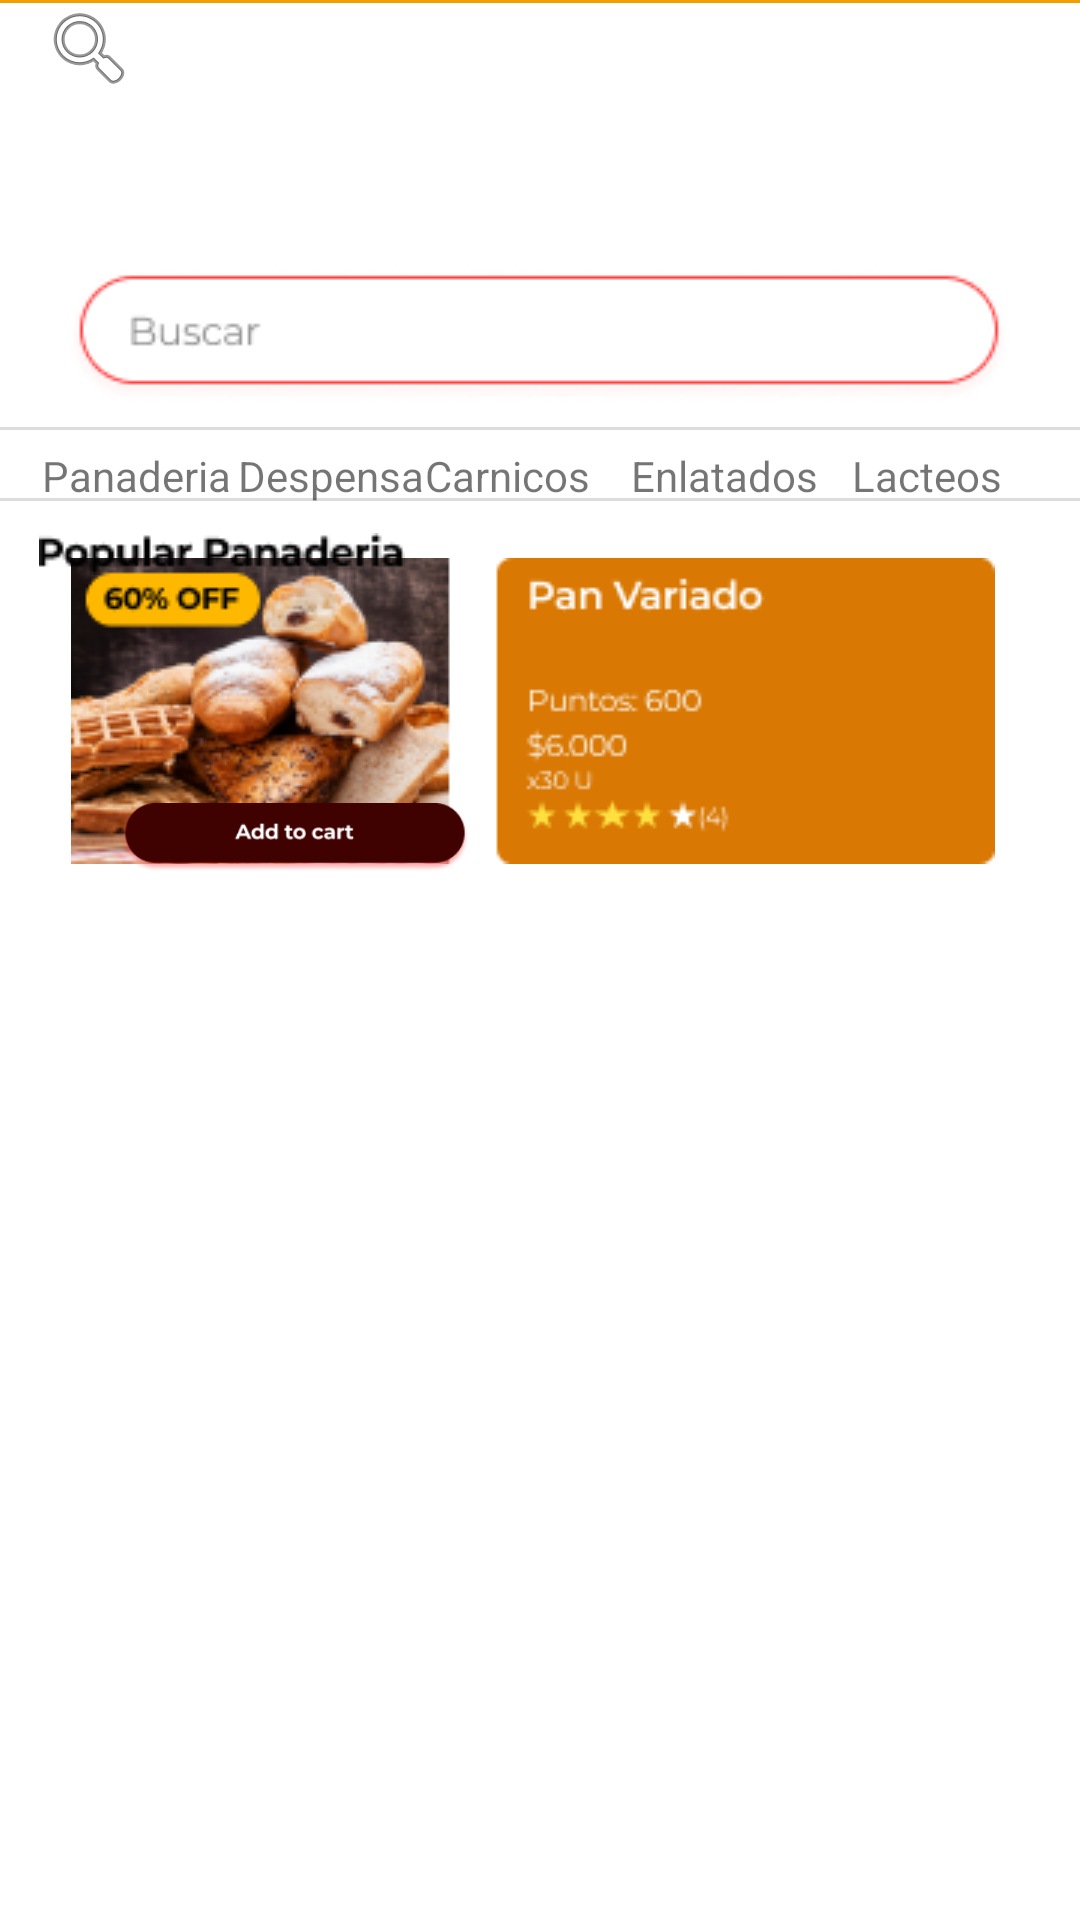

Where to tap for icons on this 1080x1920 app screen, as (x=x, y=y):
search: (x=89, y=48)
